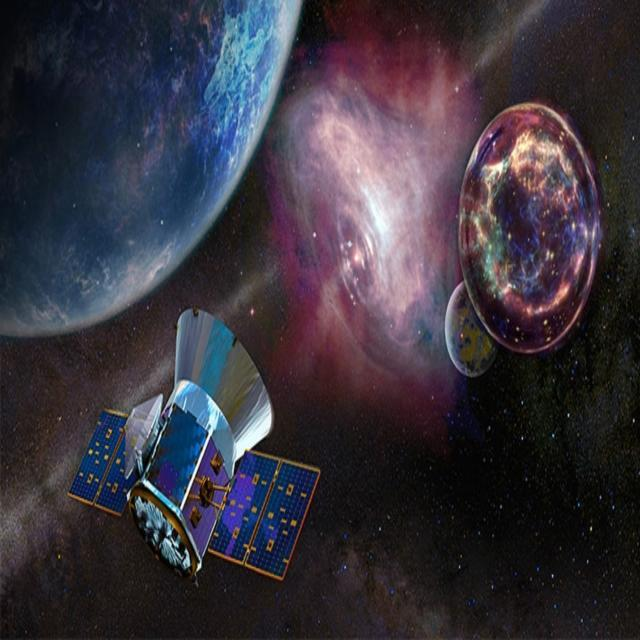sat: (63, 303, 331, 610)
